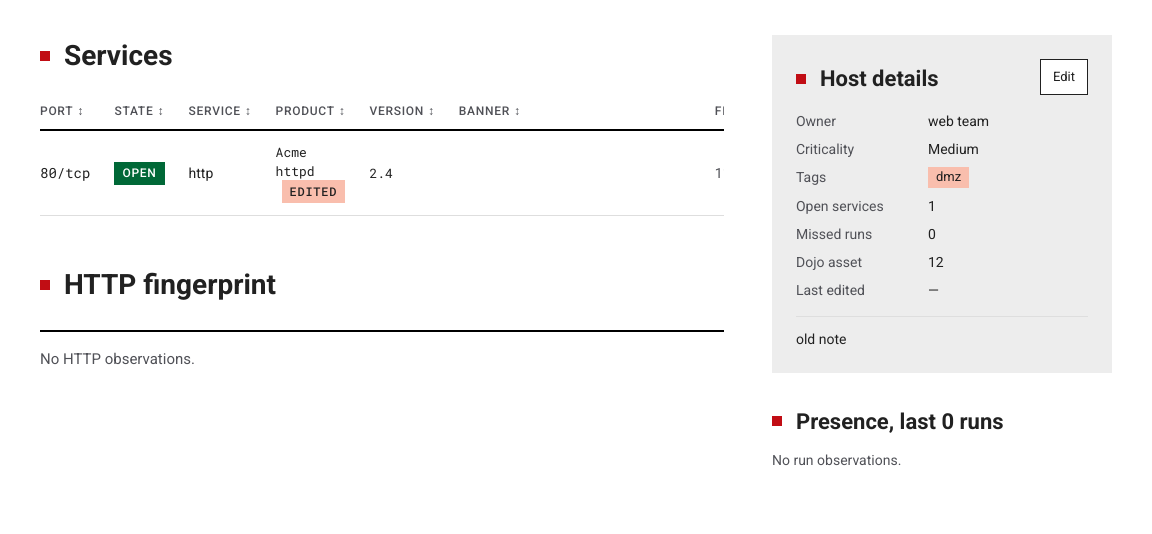
host edit › shows a pending sync and keeps the form on errors
(page scrolled)
Click the button "Edit" at coordinates (1064, 77), box [1040,59,1088,95]
(page scrolled)
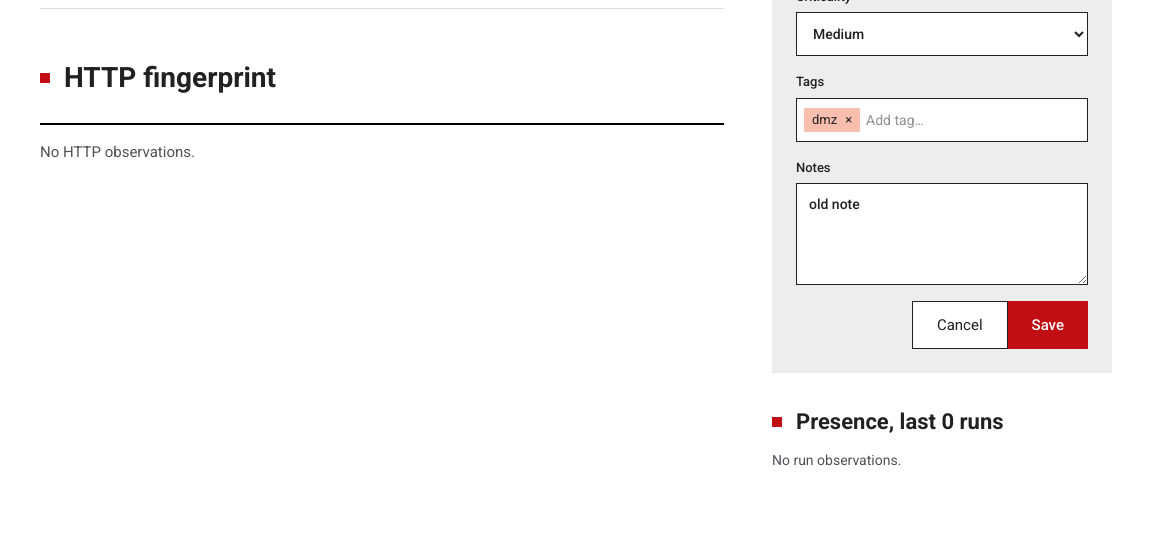
Click the button "Save" at coordinates (1048, 325), box [1008,301,1088,349]
(page scrolled)
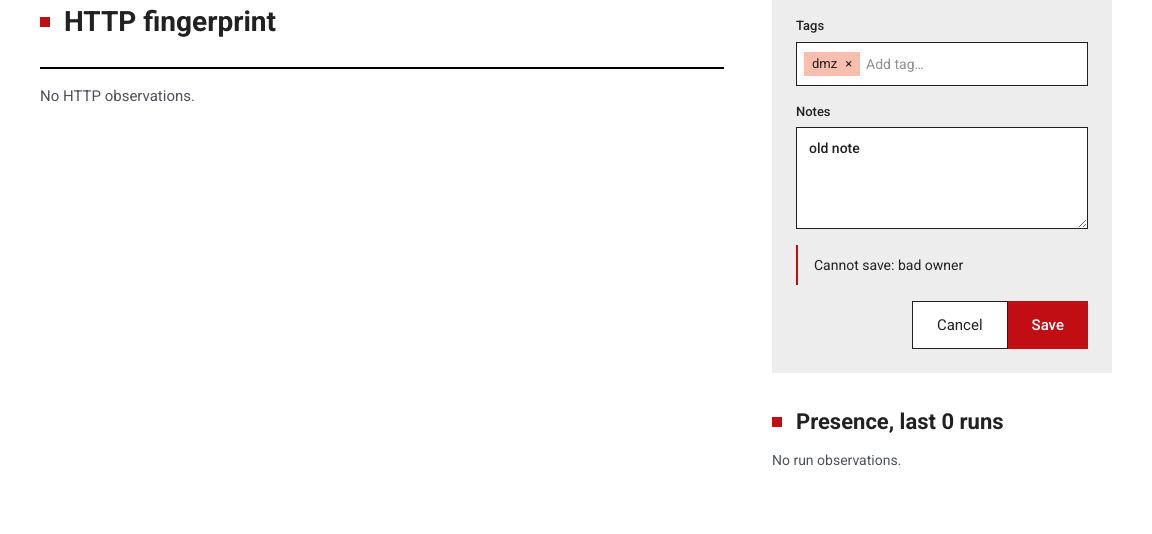
Check: the message shows "bad owner", box [898,257,963,273]
Click the button "Save" at coordinates (1048, 325), box [1008,301,1088,349]
(page scrolled)
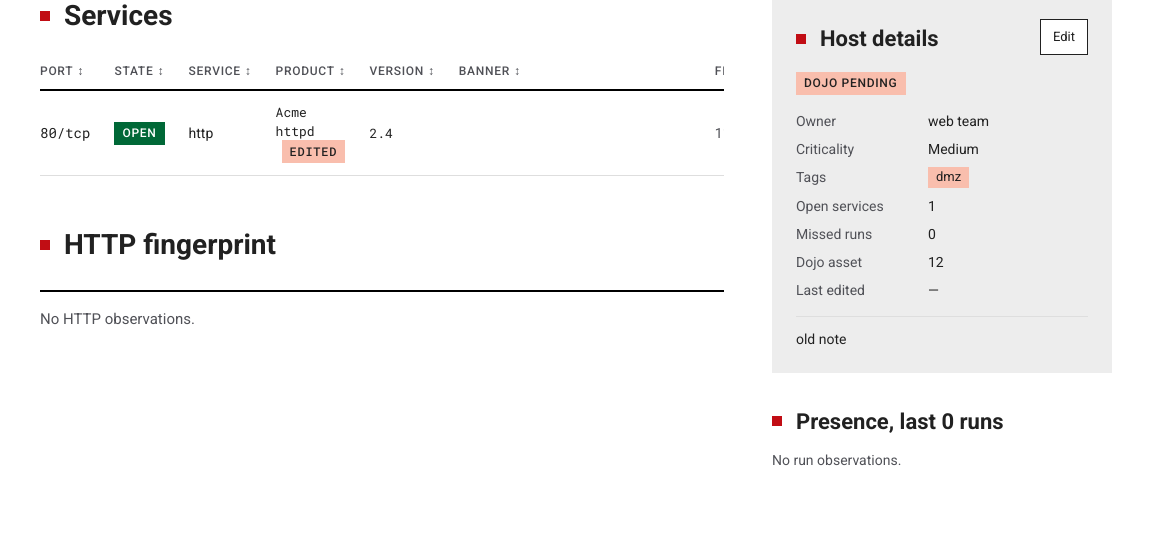
Check: the text "Dojo pending" is shown, box [796,72,906,95]
